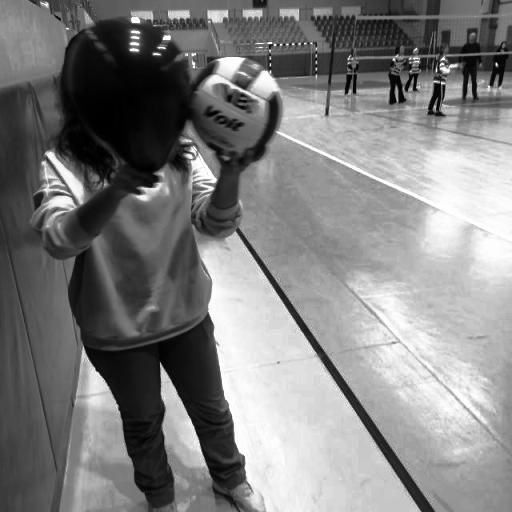balloon: (67, 17, 195, 174)
